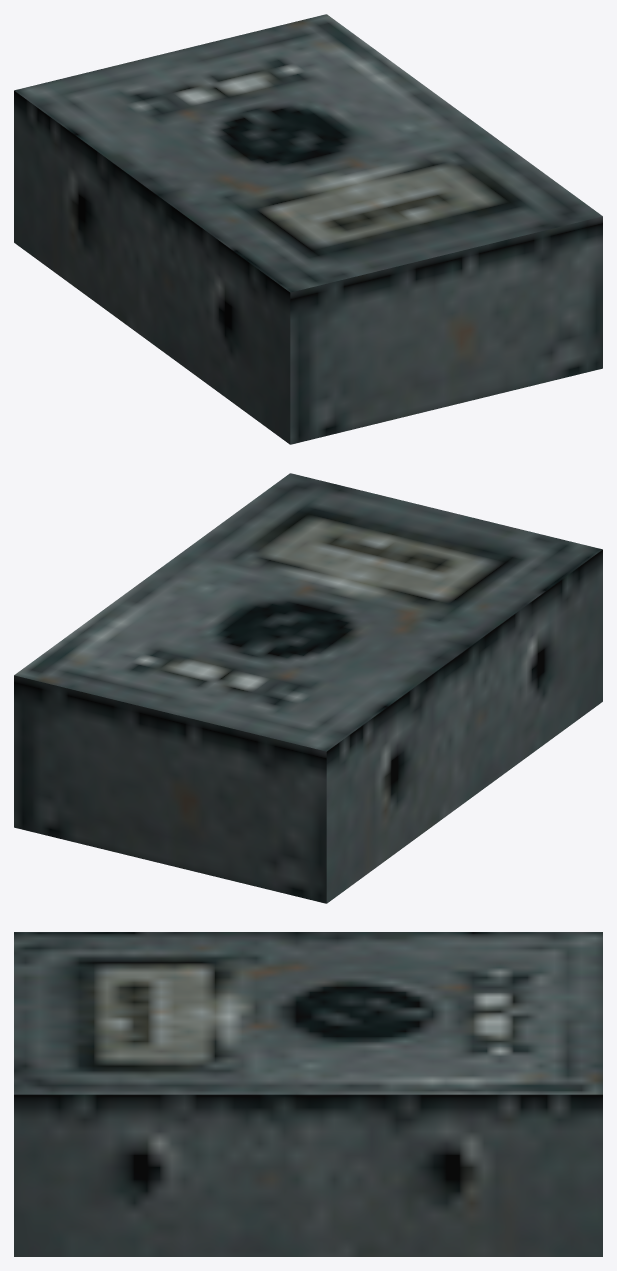
3 renders of one model, top to bottom at view 1: azimuth 30°, elevation 25°; view 2: azimuth 150°, elevation 25°; view 3: azimuth 270°, elevation 25°, orthographic. The views are drawn at different scales.
Parts seen in each view (by area): view 1: pr; view 2: pr; view 3: pr.
Boxes of the visible parts, bbox=[...] form: pr: bbox=[14, 14, 602, 444]; pr: bbox=[14, 473, 602, 903]; pr: bbox=[14, 932, 602, 1256].
Bounding box in the file's own units: 25.41 × 13.7 × 38.88.
